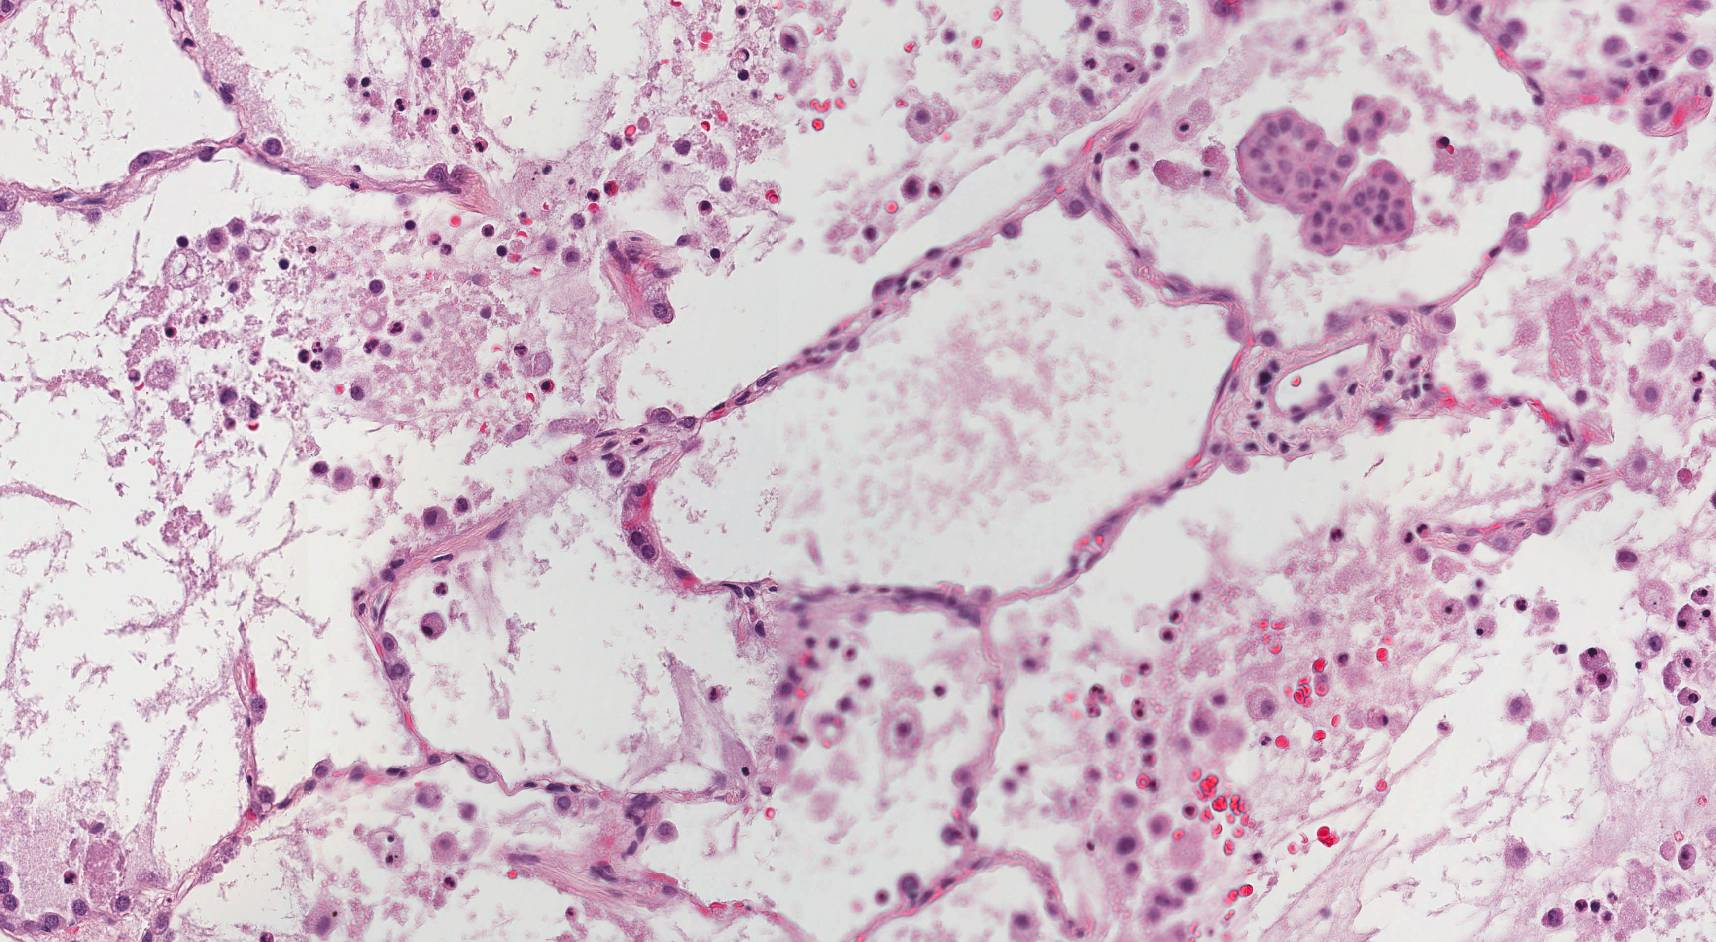stas: (1232, 94, 1420, 258)
